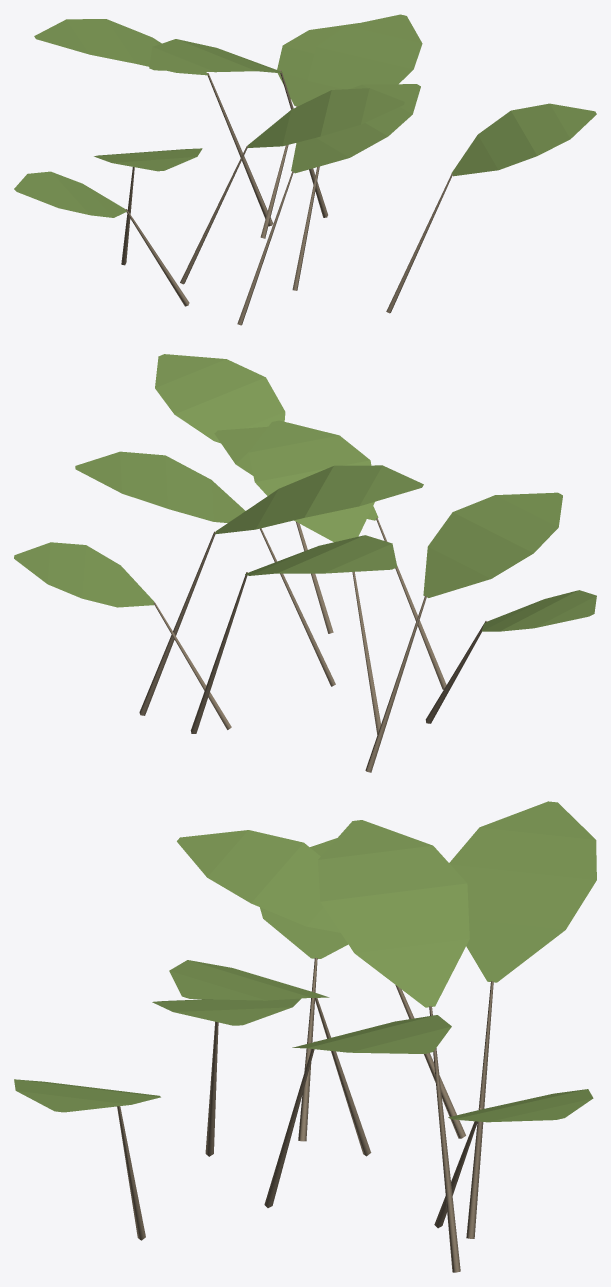
The model's file is broadleaf_lod0.glb.
3 views of the same model, one above another, from view 1: azimuth 30°, elevation 25°; view 2: azimuth 150°, elevation 25°; view 3: azimuth 270°, elevation 25° (orthographic). The views are drawn at different scales.
Parts seen in each view (by area): view 1: Leaves, Bark; view 2: Leaves, Bark; view 3: Leaves, Bark.
Boxes of the visible parts, box(x1,y1,x2,y2) form: Leaves: box(14, 14, 596, 217); Bark: box(121, 70, 452, 325); Leaves: box(14, 354, 596, 631); Bark: box(139, 518, 487, 772); Leaves: box(14, 801, 596, 1122); Bark: box(117, 958, 493, 1272).
Size of the model in its own units: 1.1 by 0.4937 by 0.8359.
